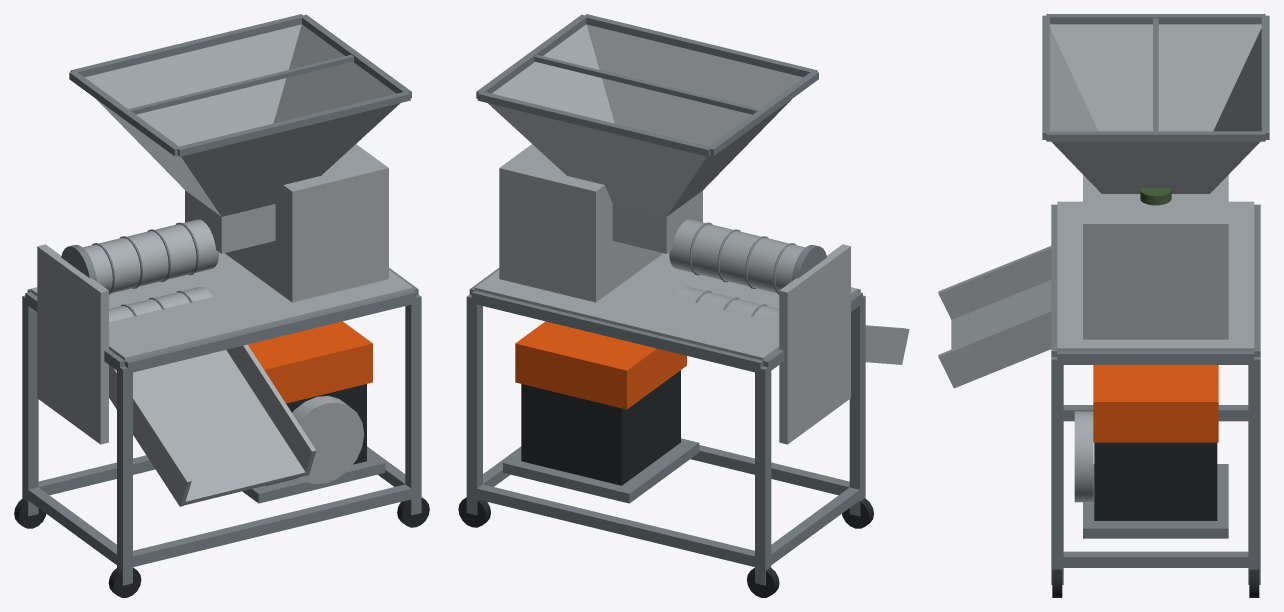
File: pilot-peras-santan-v1.glb
The picture shows the model from 3 angles, left to right: view 1: azimuth 30°, elevation 25°; view 2: azimuth 150°, elevation 25°; view 3: azimuth 270°, elevation 25°; orthographic projection. The views are drawn at different scales.
Visible parts, largest first — view 1: hopper-sheet (×4), transmission-cover, chute-floor, machine-deck, front-guard, cross-member (×3), leg (×3), hopper-rim (×4), visible-external-roller (×2), fuel-tank, chute-side (×2), recoil-cover (+7 smaller); view 2: hopper-sheet (×4), transmission-cover, machine-deck, engine-body, front-guard, cross-member (×3), leg (×3), fuel-tank, hopper-rim (×4), visible-external-roller (×2), engine-base, hopper-neck (+5 smaller); view 3: hopper-sheet (×4), transmission-cover, machine-deck, fuel-tank, engine-body, chute-side (×2), hopper-rim (×4), side-member (×3), leg (×2), engine-base, chute-floor, cross-member (×2) (+3 smaller).
Part boxes in pixels (x1,y1,x2,y2): hopper-sheet (×4): (85, 24, 400, 216); transmission-cover: (225, 144, 388, 302); chute-floor: (133, 350, 307, 505); machine-deck: (30, 252, 413, 360); front-guard: (37, 244, 108, 444); cross-member (×3): (38, 290, 416, 568); leg (×3): (22, 294, 421, 585); hopper-rim (×4): (69, 14, 411, 156); visible-external-roller (×2): (83, 219, 218, 321); fuel-tank: (248, 321, 372, 403); chute-side (×2): (109, 344, 316, 506); recoil-cover: (292, 396, 364, 484); hopper-sheet (×4): (488, 24, 802, 216); transmission-cover: (499, 144, 662, 302); machine-deck: (474, 252, 857, 360); engine-body: (521, 370, 680, 485); front-guard: (779, 244, 850, 444); cross-member (×3): (471, 290, 849, 567); leg (×3): (466, 294, 865, 585); fuel-tank: (515, 321, 686, 409); hopper-rim (×4): (476, 14, 818, 156); visible-external-roller (×2): (669, 219, 805, 321); engine-base: (503, 438, 699, 503); hopper-neck: (612, 190, 702, 253); hopper-sheet (×4): (1050, 24, 1261, 193); transmission-cover: (1083, 175, 1228, 339); machine-deck: (1057, 201, 1254, 351); fuel-tank: (1093, 365, 1218, 442); engine-body: (1094, 442, 1217, 520); chute-side (×2): (938, 246, 1051, 388); hopper-rim (×4): (1042, 14, 1269, 141); side-member (×3): (1057, 351, 1254, 567); leg (×2): (1051, 357, 1260, 584); engine-base: (1083, 464, 1228, 538); chute-floor: (951, 280, 1051, 349); cross-member (×2): (1051, 204, 1260, 356).
Bounding box in the file's own units: 1.7 × 2.26 × 1.48.
